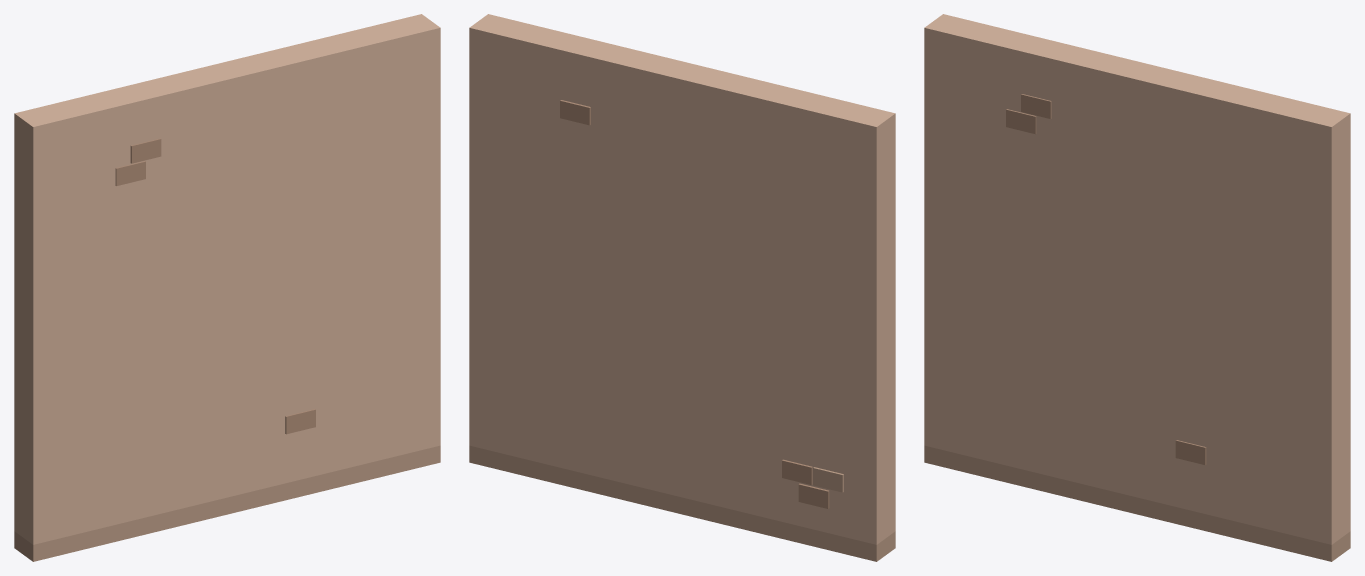
Rendered from Wall_12.fbx.
3 views of the same model, side by side, from view 1: azimuth 30°, elevation 25°; view 2: azimuth 150°, elevation 25°; view 3: azimuth 330°, elevation 25° (orthographic).
Visible parts, largest first — view 1: Wall_12; view 2: Wall_12; view 3: Wall_12.
Boxes of the visible parts, left/top/right/bottom form: Wall_12: left=14, top=14, right=440, bottom=561; Wall_12: left=469, top=14, right=895, bottom=561; Wall_12: left=924, top=14, right=1350, bottom=561.
Bounding box in the file's own units: 500 × 510 × 44.49.
